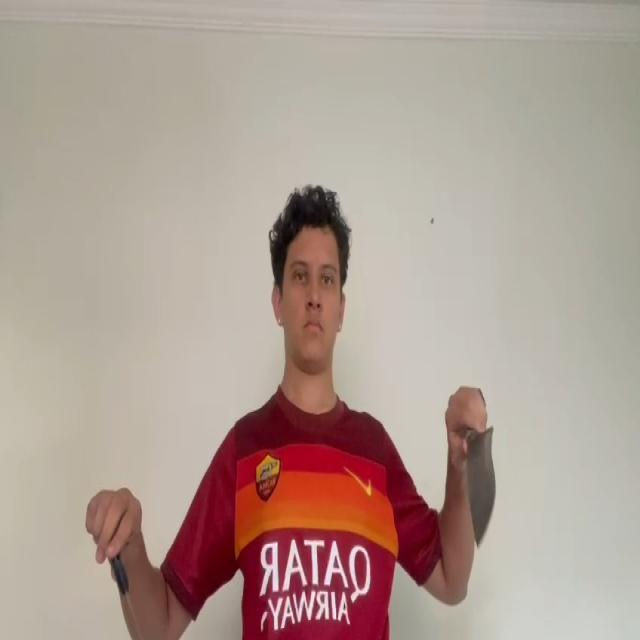knife: (465, 424, 498, 548)
